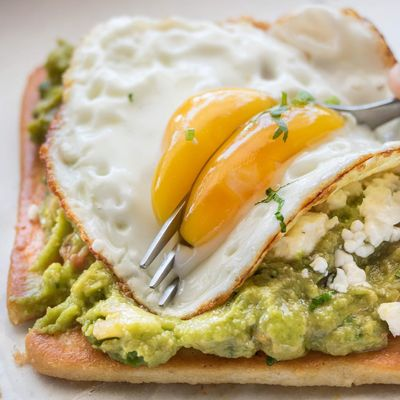pasta: (149, 84, 278, 224)
